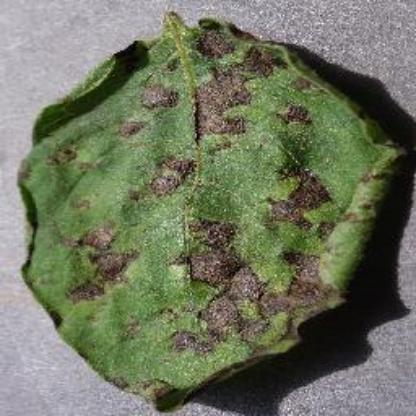Early-Blight: (19, 12, 402, 408)
